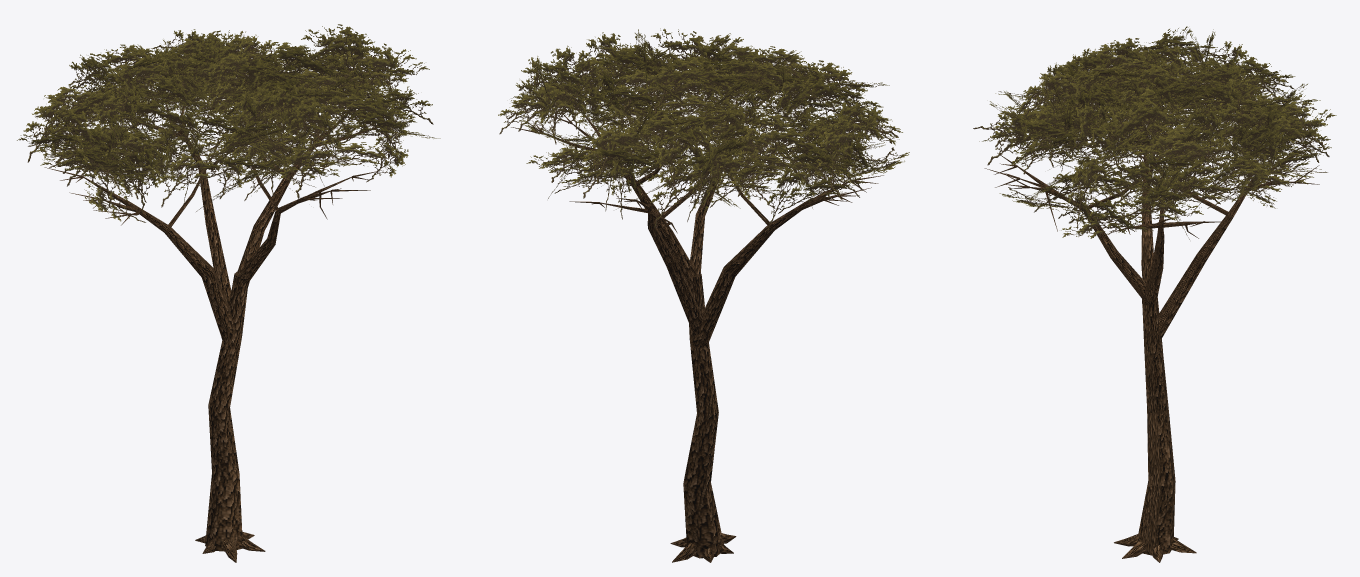
The model's file is Acacia_02_Alta_Esguia.glb.
The picture shows the model from 3 angles, left to right: view 1: azimuth 30°, elevation 25°; view 2: azimuth 150°, elevation 25°; view 3: azimuth 270°, elevation 25°; orthographic projection. The views are drawn at different scales.
Parts seen in each view (by area): view 1: Folhagem fina, Tronco e raizes, Ramos principais, Ramos secundarios, Galharia terminal; view 2: Folhagem fina, Tronco e raizes, Ramos principais, Ramos secundarios, Galharia terminal; view 3: Folhagem fina, Tronco e raizes, Ramos principais, Ramos secundarios, Galharia terminal.
Part boxes in pixels (bbox=[...]): Folhagem fina: bbox=[17, 24, 440, 222]; Tronco e raizes: bbox=[195, 271, 265, 562]; Ramos principais: bbox=[124, 129, 325, 342]; Ramos secundarios: bbox=[83, 104, 374, 227]; Galharia terminal: bbox=[44, 86, 404, 225]; Folhagem fina: bbox=[498, 28, 909, 232]; Tronco e raizes: bbox=[670, 273, 736, 562]; Ramos principais: bbox=[621, 138, 814, 348]; Ramos secundarios: bbox=[546, 97, 847, 225]; Galharia terminal: bbox=[511, 85, 883, 233]; Folhagem fina: bbox=[973, 26, 1336, 239]; Tronco e raizes: bbox=[1114, 300, 1196, 562]; Ramos principais: bbox=[1056, 136, 1252, 350]; Ramos secundarios: bbox=[1017, 111, 1294, 228]; Galharia terminal: bbox=[984, 95, 1319, 234].
Size of the model in its own units: 7.89 by 9.06 by 6.56.
2 materials, 2 textured.
